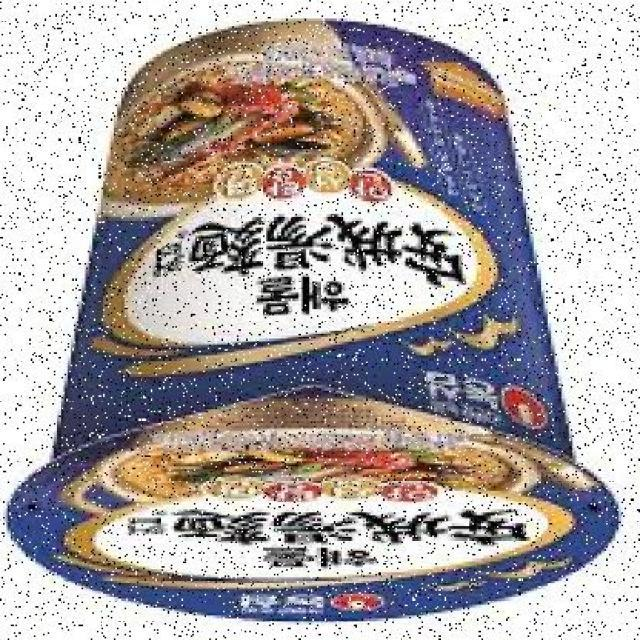Miscellaneous: (16, 17, 606, 628)
